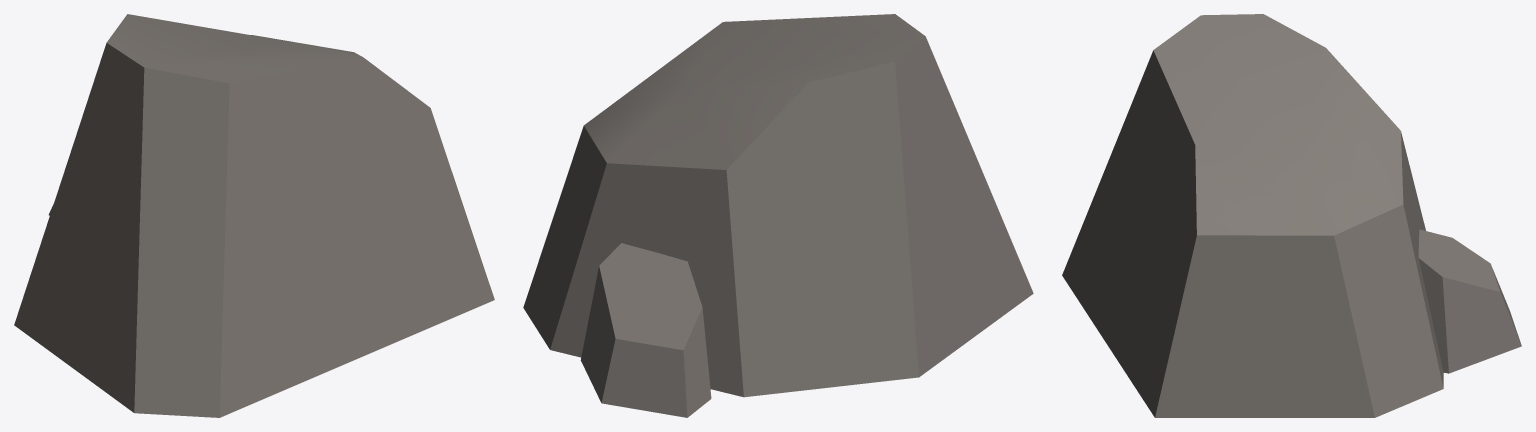
The model's file is mdl_islandRocks01.fbx.
The picture shows the model from 3 angles, left to right: view 1: azimuth 30°, elevation 25°; view 2: azimuth 150°, elevation 25°; view 3: azimuth 270°, elevation 25°; orthographic projection. The views are drawn at different scales.
Parts seen in each view (by area): view 1: mdl_islandRocks05; view 2: mdl_islandRocks05; view 3: mdl_islandRocks05.
Boxes of the visible parts, bbox=[...] form: mdl_islandRocks05: bbox=[14, 14, 494, 417]; mdl_islandRocks05: bbox=[523, 14, 1033, 417]; mdl_islandRocks05: bbox=[1062, 14, 1521, 417].
Bounding box in the file's own units: 111 × 80.68 × 129.
